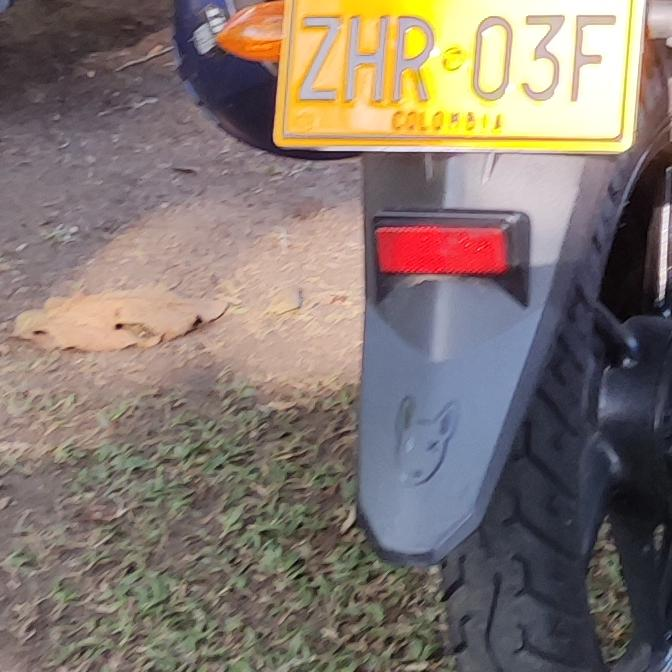plates: (270, 0, 640, 150)
